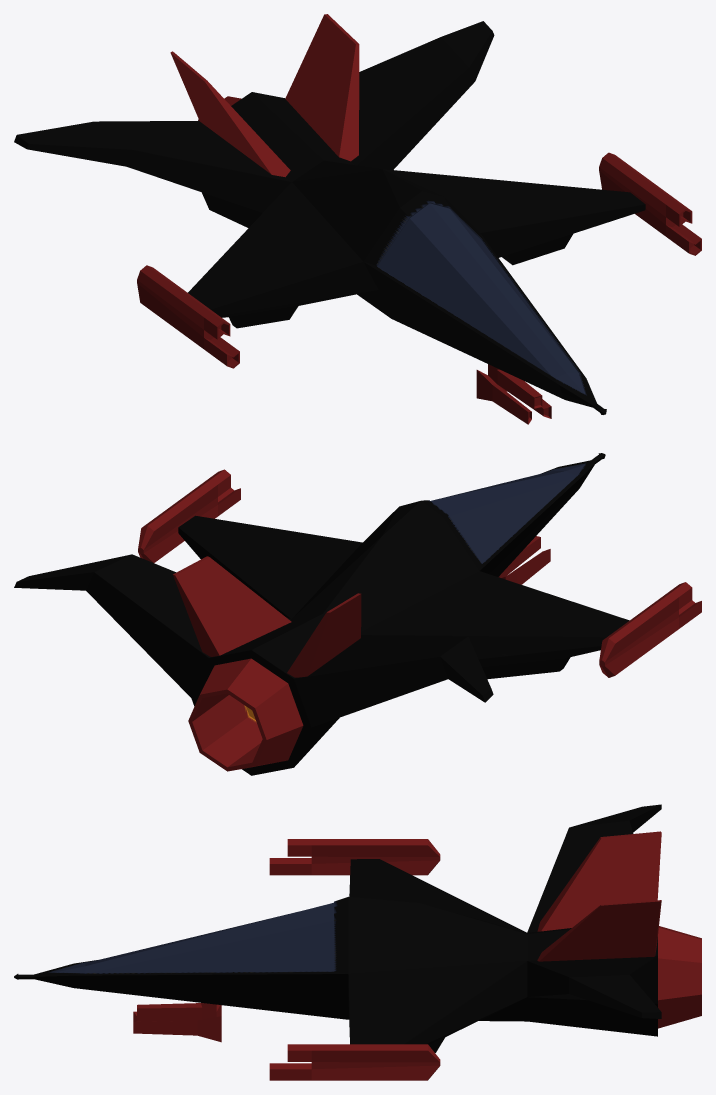
Rendered from nave_inimiga.fbx.
The picture shows the model from 3 angles, top to bottom: view 1: azimuth 30°, elevation 25°; view 2: azimuth 150°, elevation 25°; view 3: azimuth 270°, elevation 25°; orthographic projection. The views are drawn at different scales.
Visible parts, largest first — view 1: Nave inimiga_2; view 2: Nave inimiga_2; view 3: Nave inimiga_2.
Boxes of the visible parts, x1,y1,x2,y2 form: Nave inimiga_2: [14, 14, 701, 424]; Nave inimiga_2: [14, 453, 701, 775]; Nave inimiga_2: [14, 804, 701, 1080].
Size of the model in its own units: 11.34 by 4.23 by 15.63.
1 material, 1 textured.
